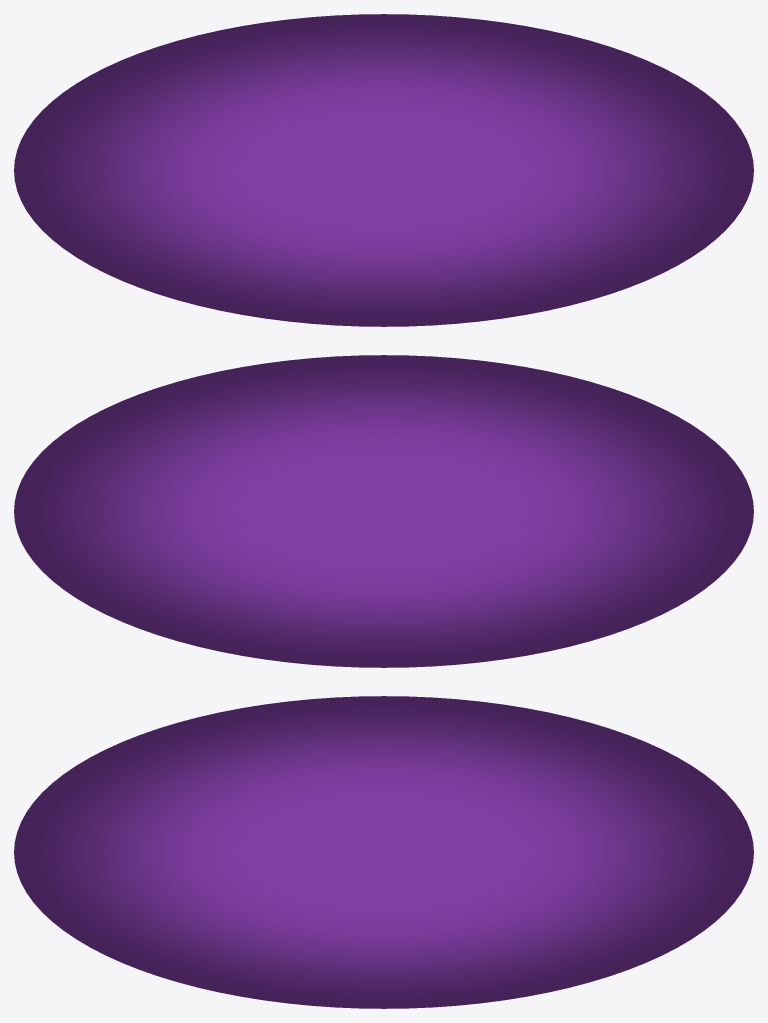
The model's file is piso-violeta2.glb.
The picture shows the model from 3 angles, top to bottom: view 1: azimuth 30°, elevation 25°; view 2: azimuth 150°, elevation 25°; view 3: azimuth 270°, elevation 25°; orthographic projection.
Parts seen in each view (by area): view 1: Piso; view 2: Piso; view 3: Piso.
Part boxes in pixels (x1,y1,x2,y2): Piso: (14, 14, 753, 326); Piso: (14, 355, 753, 667); Piso: (14, 696, 753, 1008).
Bounding box in the file's own units: 18 × 0 × 18.
